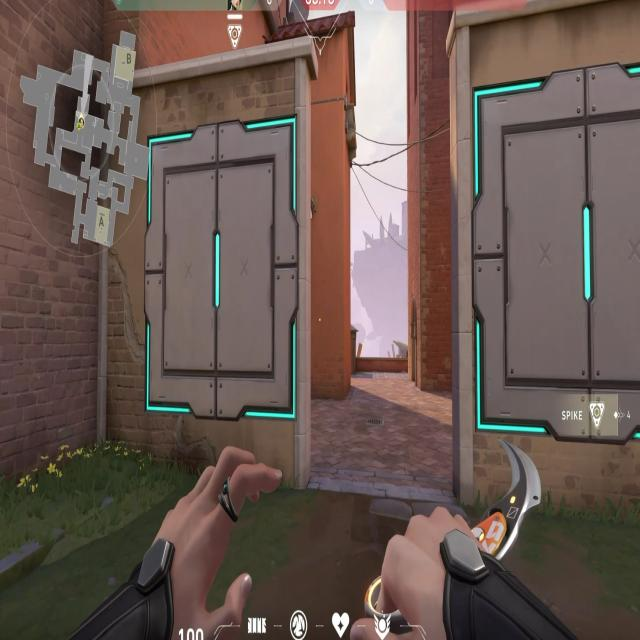Mid_Wall: (435, 0, 640, 518), (112, 32, 326, 503)
